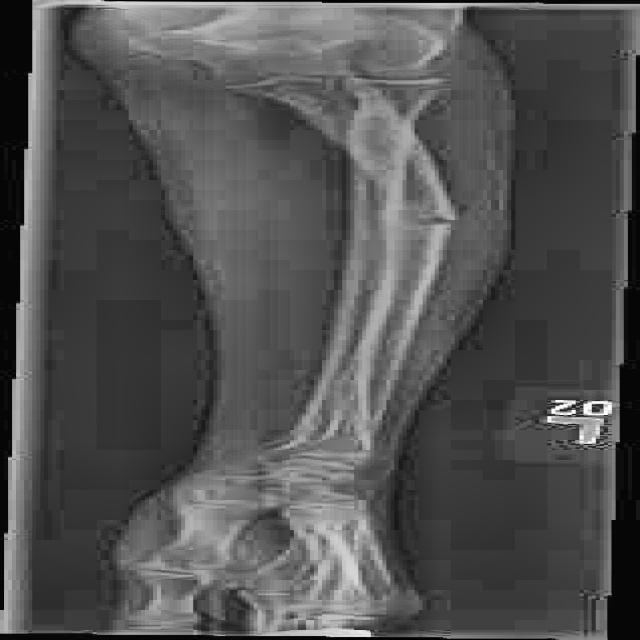forearm fracture: (321, 185, 520, 261)
